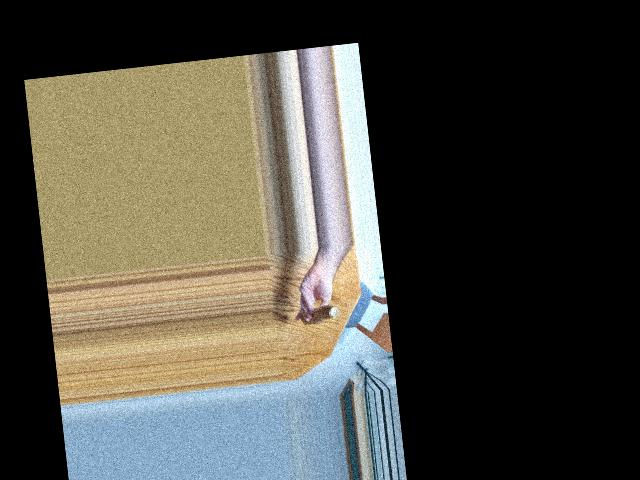sweet_potato: (299, 310, 335, 326)
